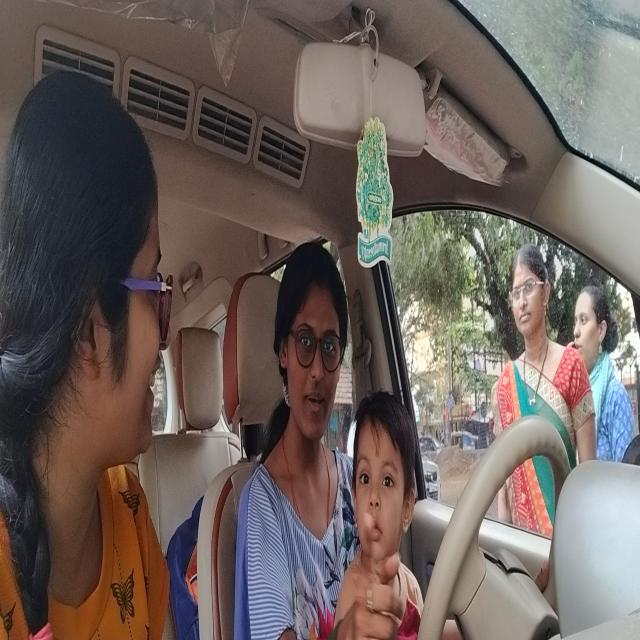child: (350, 386, 420, 566)
person: (0, 55, 181, 509), (272, 235, 350, 450)
